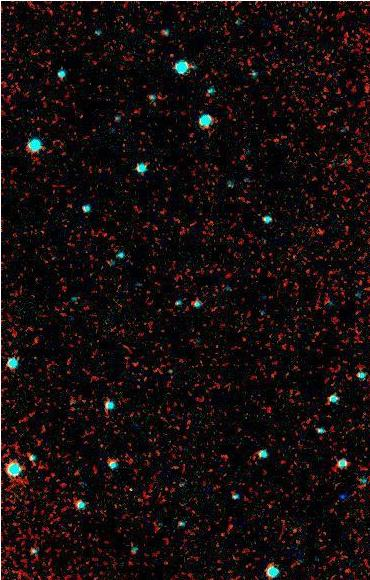star: (327, 476, 357, 506)
